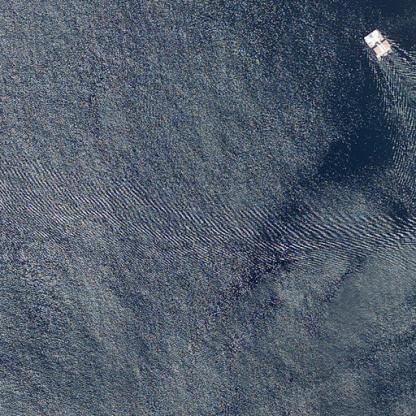ship: (359, 21, 397, 63)
